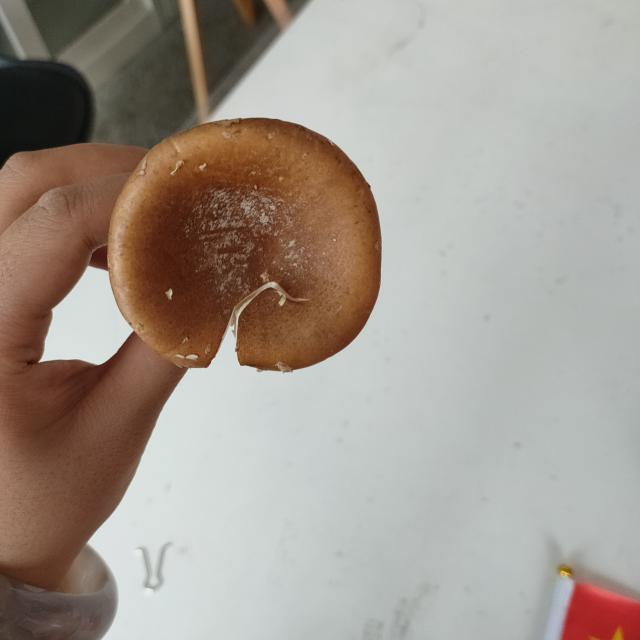Clitocybe maxima: (108, 115, 384, 374)
